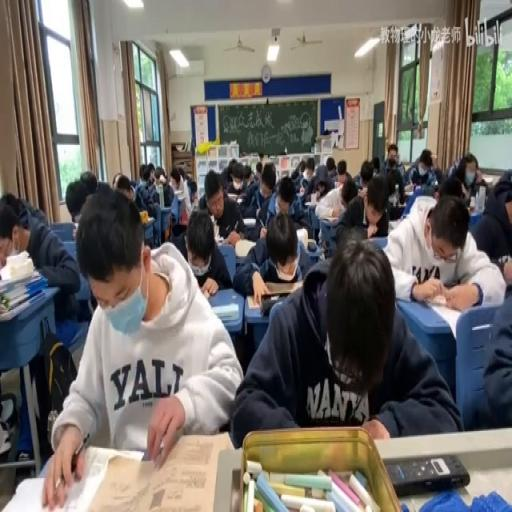calculator: (0, 443, 114, 512), (416, 291, 481, 340), (246, 280, 299, 309), (0, 287, 44, 320), (0, 263, 40, 292), (212, 302, 238, 322), (234, 238, 256, 256), (294, 226, 308, 248), (387, 219, 401, 233), (318, 215, 341, 223), (214, 233, 226, 245), (242, 214, 256, 224), (140, 216, 154, 225), (403, 162, 413, 174), (304, 198, 318, 206), (174, 188, 184, 199), (404, 184, 414, 194), (226, 192, 240, 199), (394, 204, 406, 210), (300, 185, 306, 193)
paper: (232, 230, 457, 446), (0, 192, 82, 456), (471, 266, 512, 429), (170, 208, 232, 296), (469, 168, 510, 262), (338, 172, 386, 242), (236, 162, 270, 226), (132, 165, 160, 240), (2, 192, 44, 232), (166, 165, 192, 223), (381, 146, 406, 205), (406, 146, 436, 190), (302, 160, 332, 204), (436, 175, 466, 200), (112, 170, 136, 200), (218, 160, 236, 190), (290, 159, 306, 191), (334, 158, 350, 188), (79, 170, 98, 194), (472, 176, 487, 202), (358, 162, 373, 186), (186, 179, 197, 205), (342, 186, 355, 206), (431, 165, 443, 185), (371, 155, 381, 176), (325, 155, 335, 176), (154, 168, 166, 185), (254, 159, 262, 179), (260, 151, 270, 165), (306, 160, 314, 176), (178, 168, 186, 183), (140, 164, 146, 179), (301, 176, 308, 188)
person: (386, 452, 470, 494), (306, 239, 316, 252), (238, 230, 247, 239)
